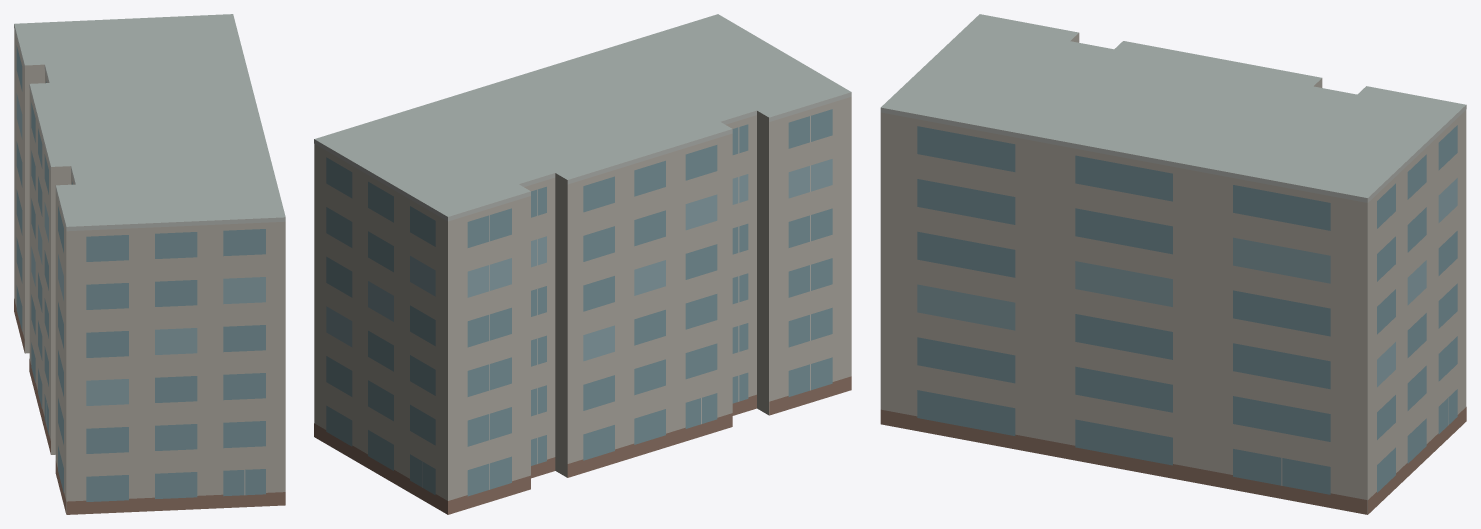
The model's file is survey-upis-32669706.glb.
3 renders of one model, left to right at view 1: azimuth 30°, elevation 25°; view 2: azimuth 150°, elevation 25°; view 3: azimuth 270°, elevation 25°, orthographic. The views are drawn at different scales.
Visible parts, largest first — view 1: survey-upis-32669706.tmp; view 2: survey-upis-32669706.tmp; view 3: survey-upis-32669706.tmp.
Part boxes in pixels (bbox=[...]): survey-upis-32669706.tmp: bbox=[14, 14, 285, 514]; survey-upis-32669706.tmp: bbox=[314, 14, 851, 514]; survey-upis-32669706.tmp: bbox=[880, 14, 1466, 514].
Size of the model in its own units: 20.09 by 16.1 by 27.
